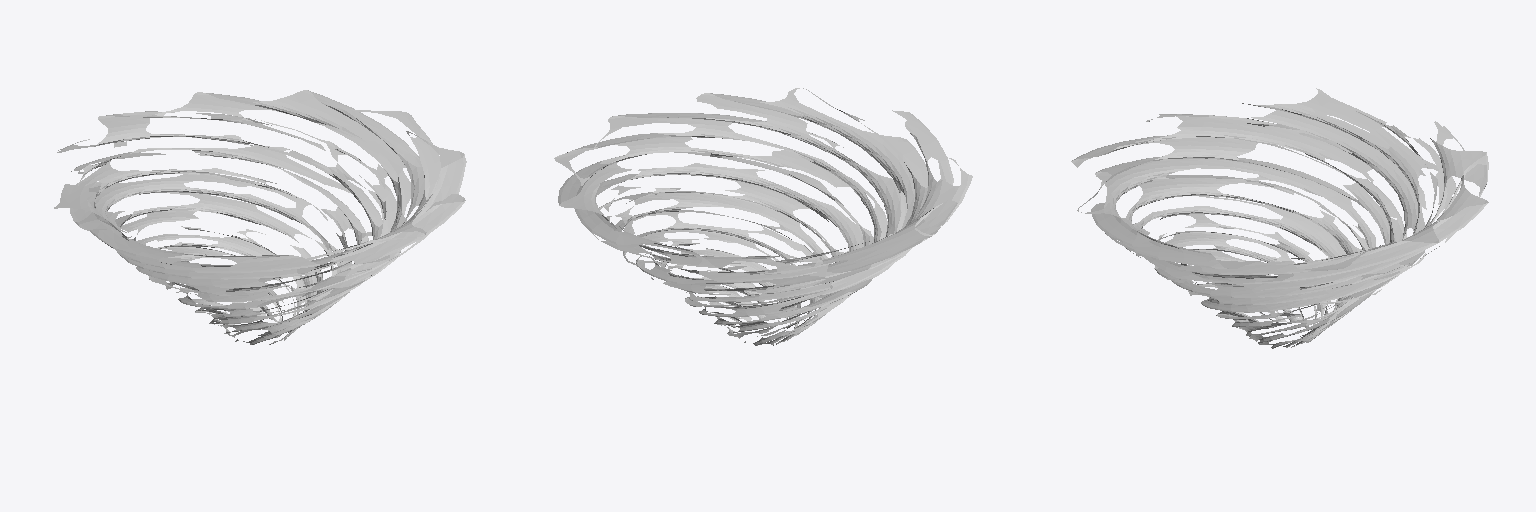
Rendered from InTake2.obj.
3 renders of one model, left to right at view 1: azimuth 30°, elevation 25°; view 2: azimuth 150°, elevation 25°; view 3: azimuth 270°, elevation 25°, orthographic.
Parts seen in each view (by area): view 1: Meshpart1; view 2: Meshpart1; view 3: Meshpart1.
Boxes of the visible parts, <box> form: Meshpart1: <box>54,90,466,344</box>; Meshpart1: <box>554,88,972,345</box>; Meshpart1: <box>1071,88,1488,348</box>.
Bounding box in the file's own units: 10.2 × 4.19 × 10.07.